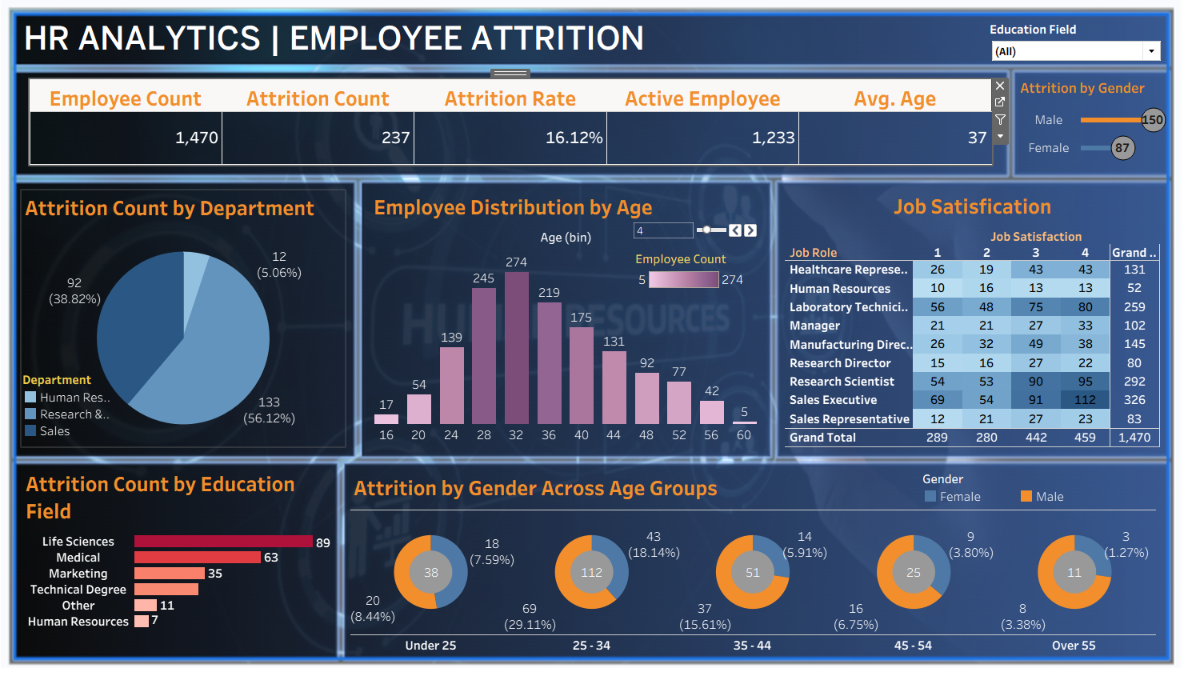

This screenshot's page, from the dashboard's own definition file:
{"tool":"tableau","page":{"name":"Dashboard 1","canvas":[1500,900],"ordinal":0},"visuals":[{"type":"image","param":"Image/HR background.png","box":[8,8,1484,884]},{"type":"text","box":[37,52,976,62]},{"type":"filter","title":"Department wise Attrition","param":"[federated.059kiuw1x5qkey19gbn8m09x59wo].[none:EducationField:nk]","box":[1248,61,217,53]},{"type":"worksheet","title":"Attrition by Gender","mark":"Automatic","rows":["Gender"],"cols":["Calculation_1250191801942016","Calculation_1250191801942016"],"box":[1282,128,191,109]},{"type":"worksheet","title":"KPI","mark":"Automatic","box":[48,134,1203,107]},{"type":"worksheet","title":"Job Satisfication","mark":"Square","rows":["JobRole"],"cols":["JobSatisfaction"],"box":[992,271,469,323]},{"type":"worksheet","title":"No of employe by age group","mark":"Bar","rows":["EmployeeCount"],"cols":["Age (bin)"],"box":[474,272,488,318]},{"type":"worksheet","title":"Department wise Attrition","mark":"Pie","box":[38,273,404,320]},{"type":"parameter","param":"[Parameters].[Parameter 1]","box":[800,310,160,44]},{"type":"legend","title":"No of employe by age group","param":"[federated.059kiuw1x5qkey19gbn8m09x59wo].[sum:EmployeeCount:qk]","box":[805,348,140,57]},{"type":"legend","title":"Department wise Attrition","param":"[federated.059kiuw1x5qkey19gbn8m09x59wo].[none:Department:nk]","box":[39,499,116,95]},{"type":"worksheet","title":"Education Field wise Attrition","mark":"Automatic","rows":["EducationField"],"cols":["Calculation_1250191801942016"],"box":[39,618,400,234]},{"type":"worksheet","title":"Attrition rate for Gender for Different Age Group","mark":"Pie","rows":["Calculation_1250191836311559","Calculation_1250191836311559"],"cols":["Calculation_1250191835127811"],"box":[449,623,1007,231]},{"type":"legend","title":"Attrition rate for Gender for Different Age Group","param":"[federated.059kiuw1x5qkey19gbn8m09x59wo].[none:Gender:nk]","box":[1164,623,258,44]}]}

Visuals, with their boxes in screenshot pixels (x1, y1, x2, y2):
image: 9,0,1142,656
text: 31,15,776,62
"Department wise Attrition" filter: 956,22,1121,62
"Attrition by Gender" worksheet: 982,73,1127,156
"KPI" worksheet: 40,78,958,159
"Job Satisfication" worksheet (Square marks): 760,182,1118,429
"No of employe by age group" worksheet (Bar marks): 365,183,737,426
"Department wise Attrition" worksheet (Pie marks): 32,184,340,428
parameter: 614,212,736,245
"No of employe by age group" legend: 618,241,724,284
"Department wise Attrition" legend: 33,356,121,429
"Education Field wise Attrition" worksheet: 33,447,338,626
"Attrition rate for Gender for Different Age Group" worksheet (Pie marks): 346,451,1114,627
"Attrition rate for Gender for Different Age Group" legend: 892,451,1089,484
